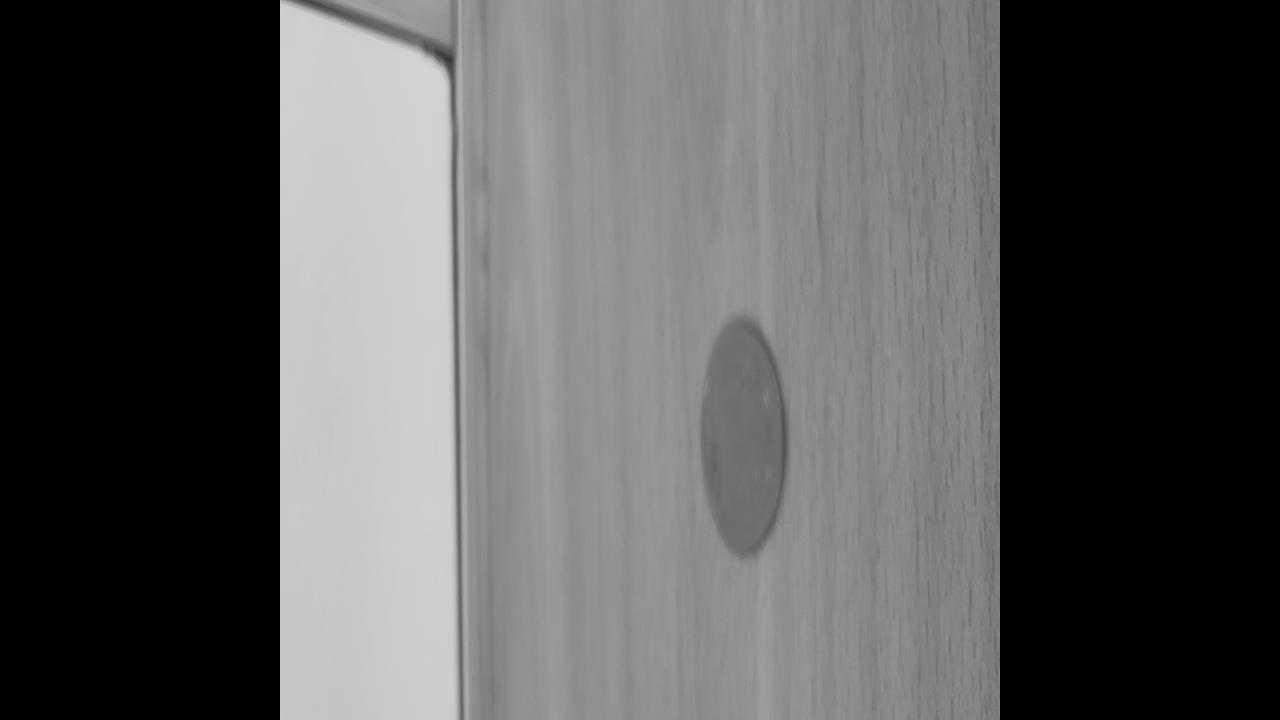coin: (698, 318, 786, 558)
